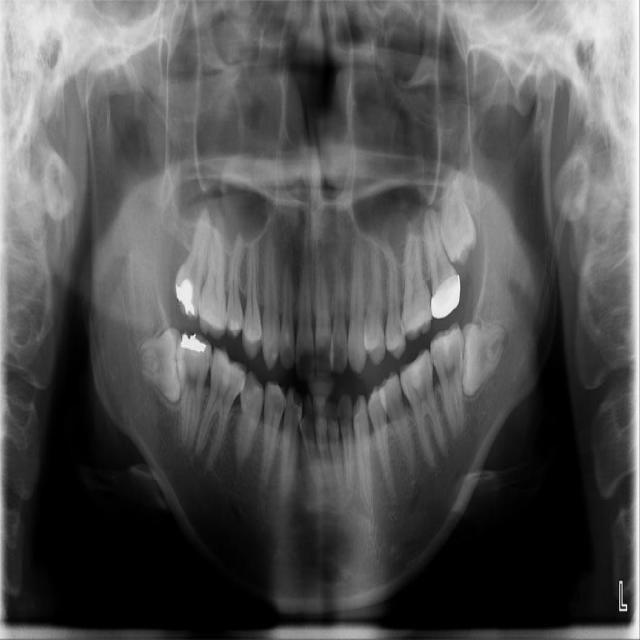Filling: (173, 265, 201, 319), (430, 275, 461, 320), (179, 335, 207, 351)
impacted tooth: (461, 320, 506, 399), (130, 333, 179, 399), (439, 175, 474, 258)
